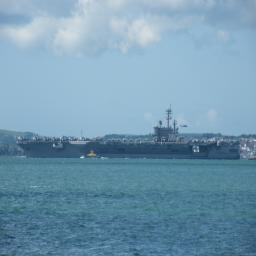Portanaves: (16, 102, 244, 162)
